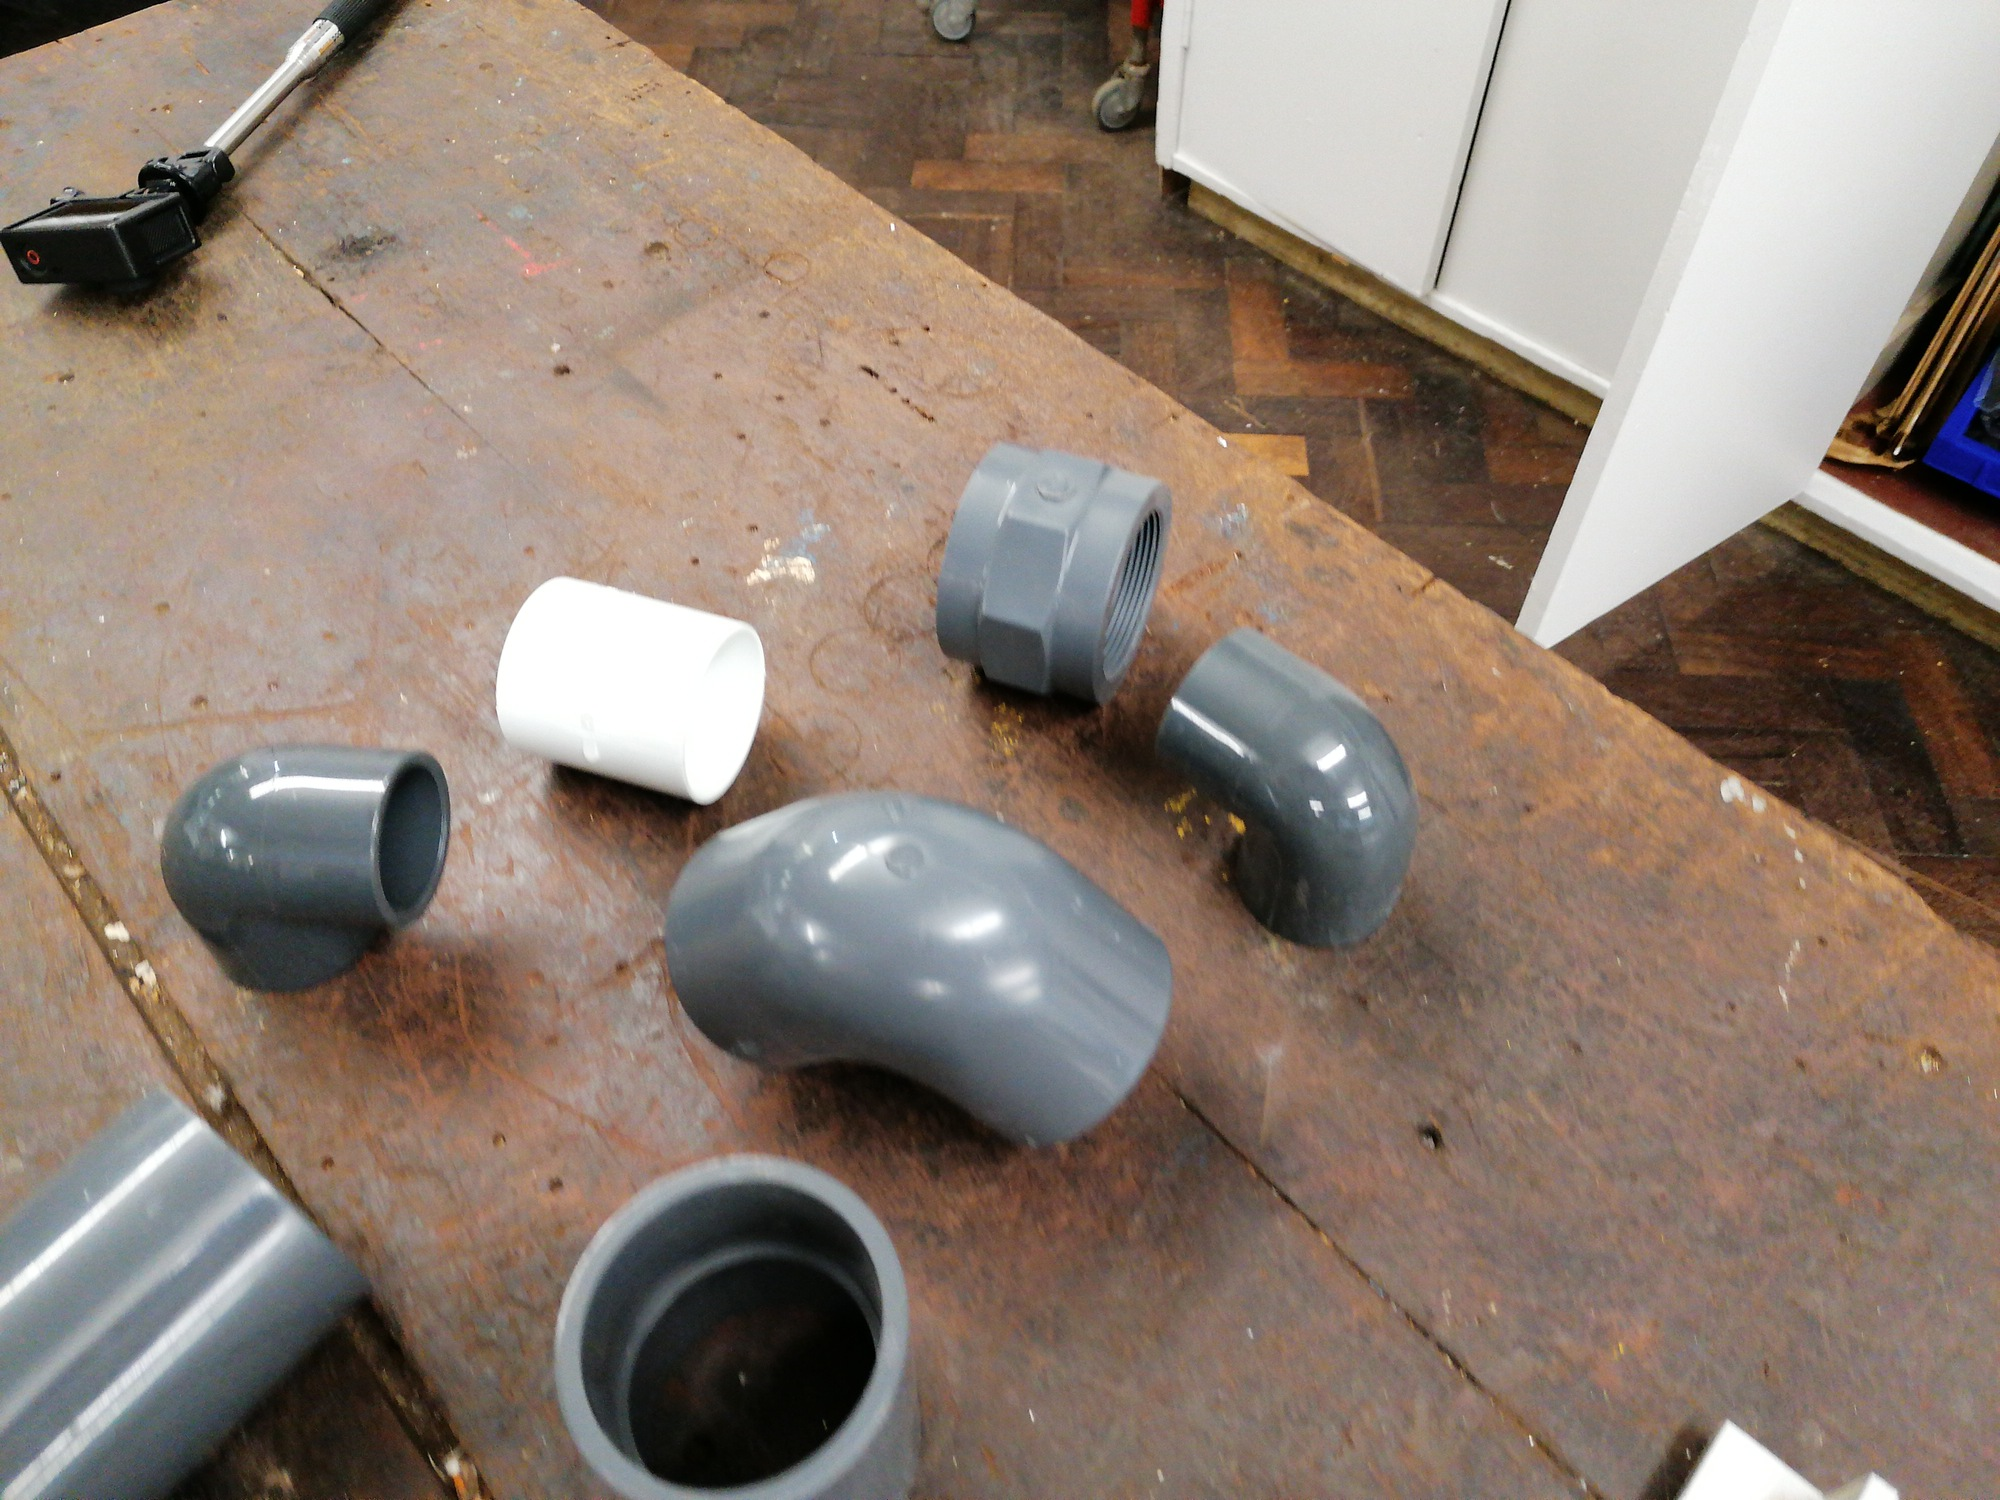nut: (932, 435, 1172, 711)
pipe: (666, 777, 1175, 1149), (2, 1090, 384, 1498), (546, 1141, 923, 1495), (1153, 614, 1424, 950), (161, 722, 450, 991), (494, 567, 767, 804)
